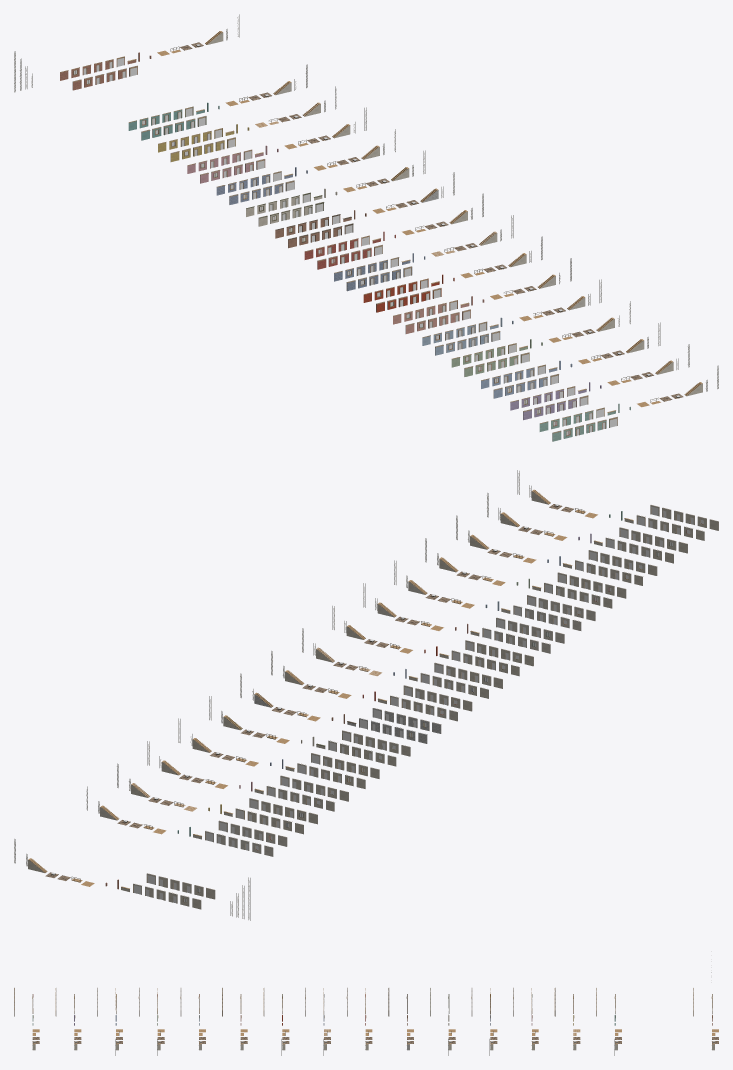
File: building_pieces.glb
3 renders of one model, top to bottom at view 1: azimuth 30°, elevation 25°; view 2: azimuth 150°, elevation 25°; view 3: azimuth 270°, elevation 25°, orthographic. The views are drawn at different scales.
Size of the model in its own units: 79.56 by 14.1 by 305.
Materials: 16 (14 with a texture image).
